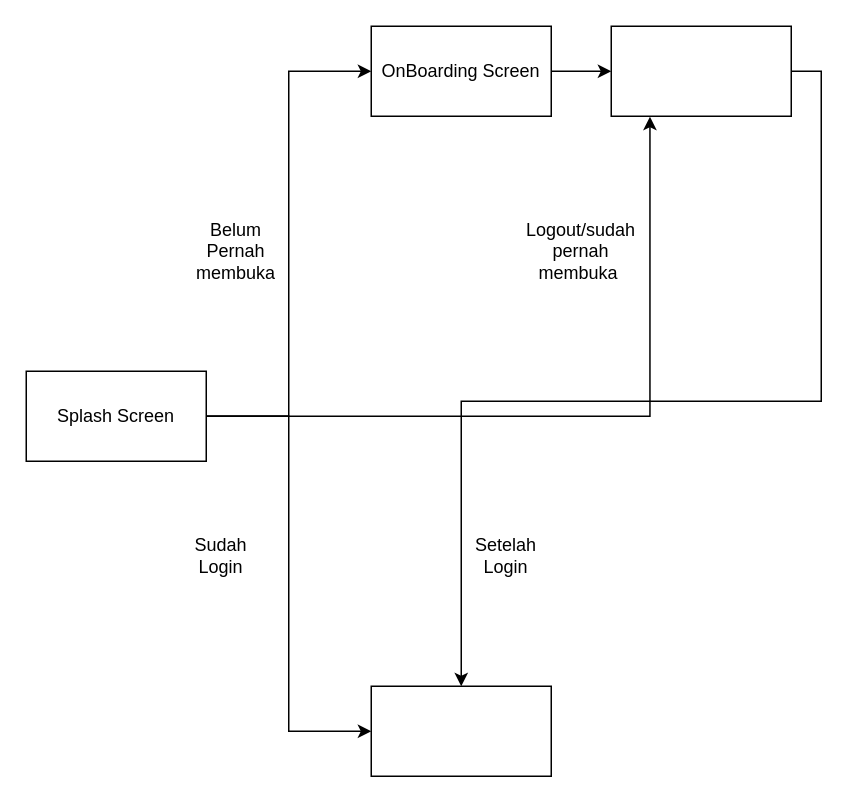
Image size: 860x803. Some labels were removed from this diagram. Here are the shapes that lost their labels. From the top down, the centre of each, then its label:
At point (700, 70): "Login/SignUp".
At point (460, 730): "Home".
